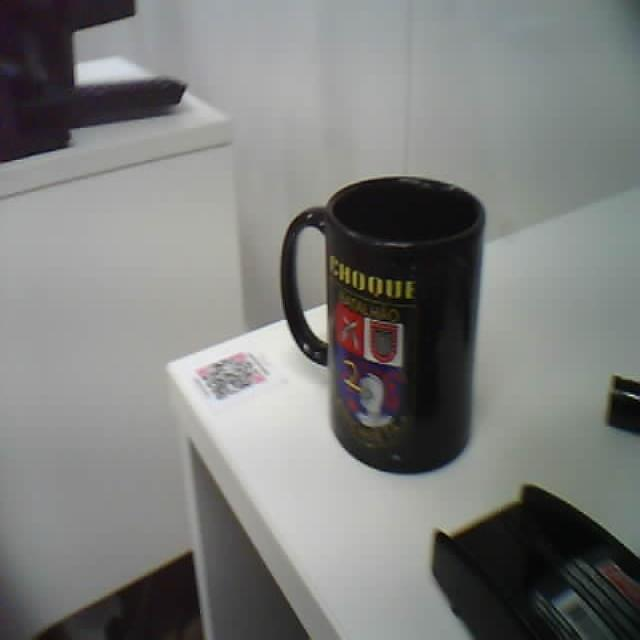caneca: (281, 176, 484, 471)
